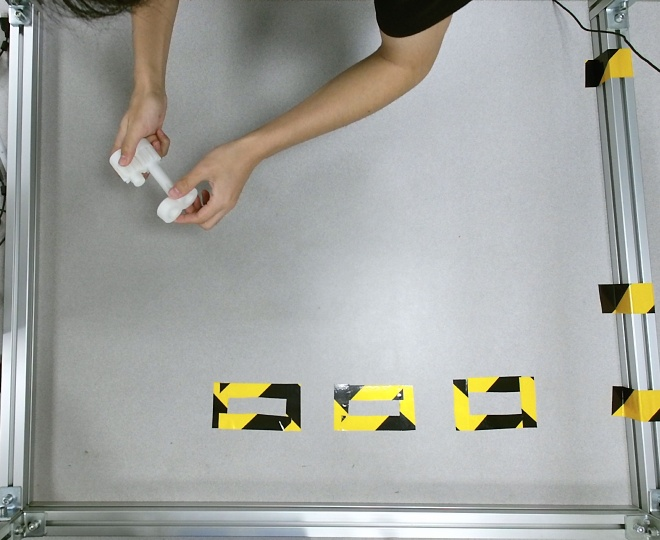stage_3: (109, 133, 199, 222)
